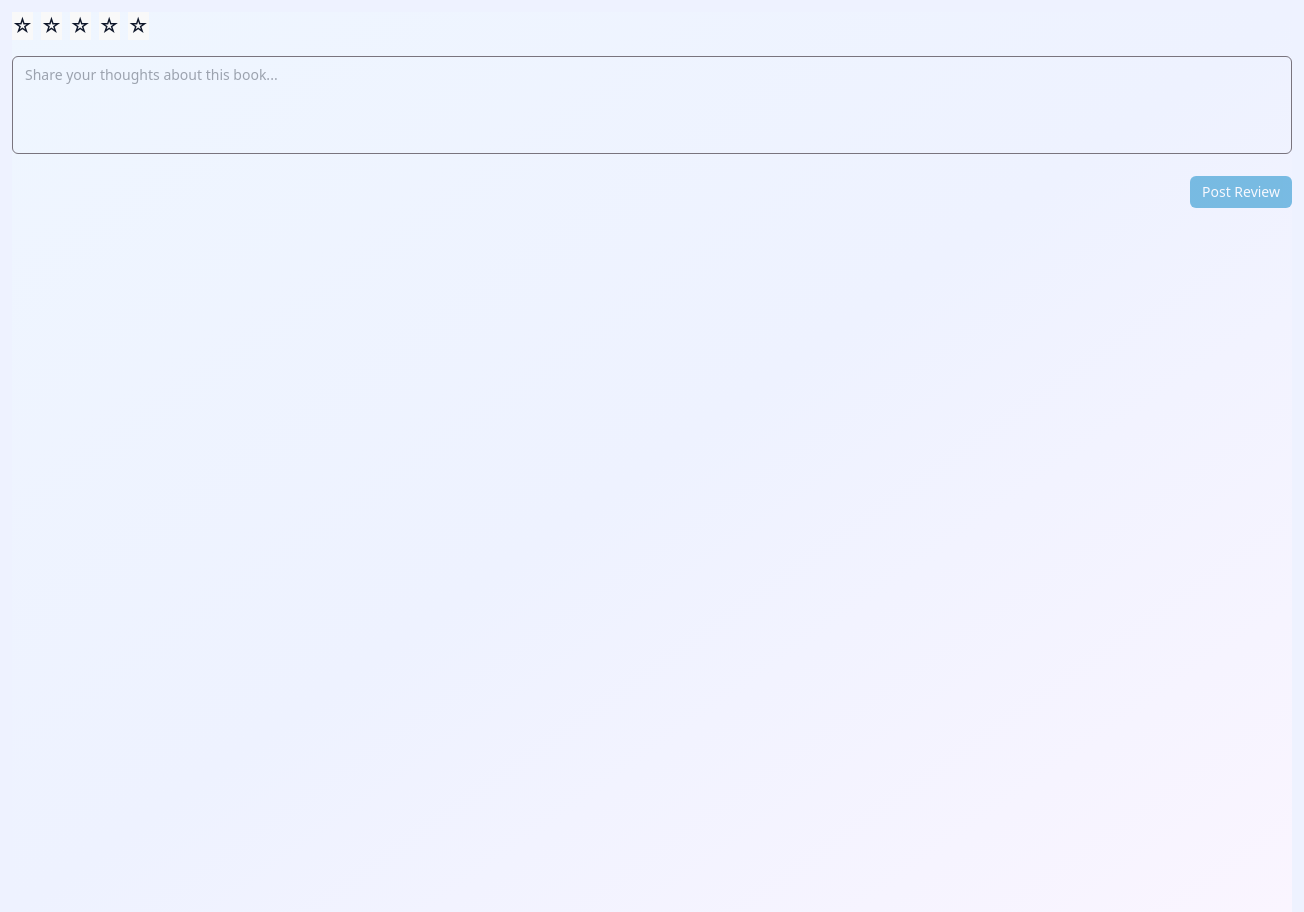
Test: ReviewForm Comprehensive Tests › resets form after successful submission
Click the button named "Rate 1 star": (22,26) [12,12,33,40]
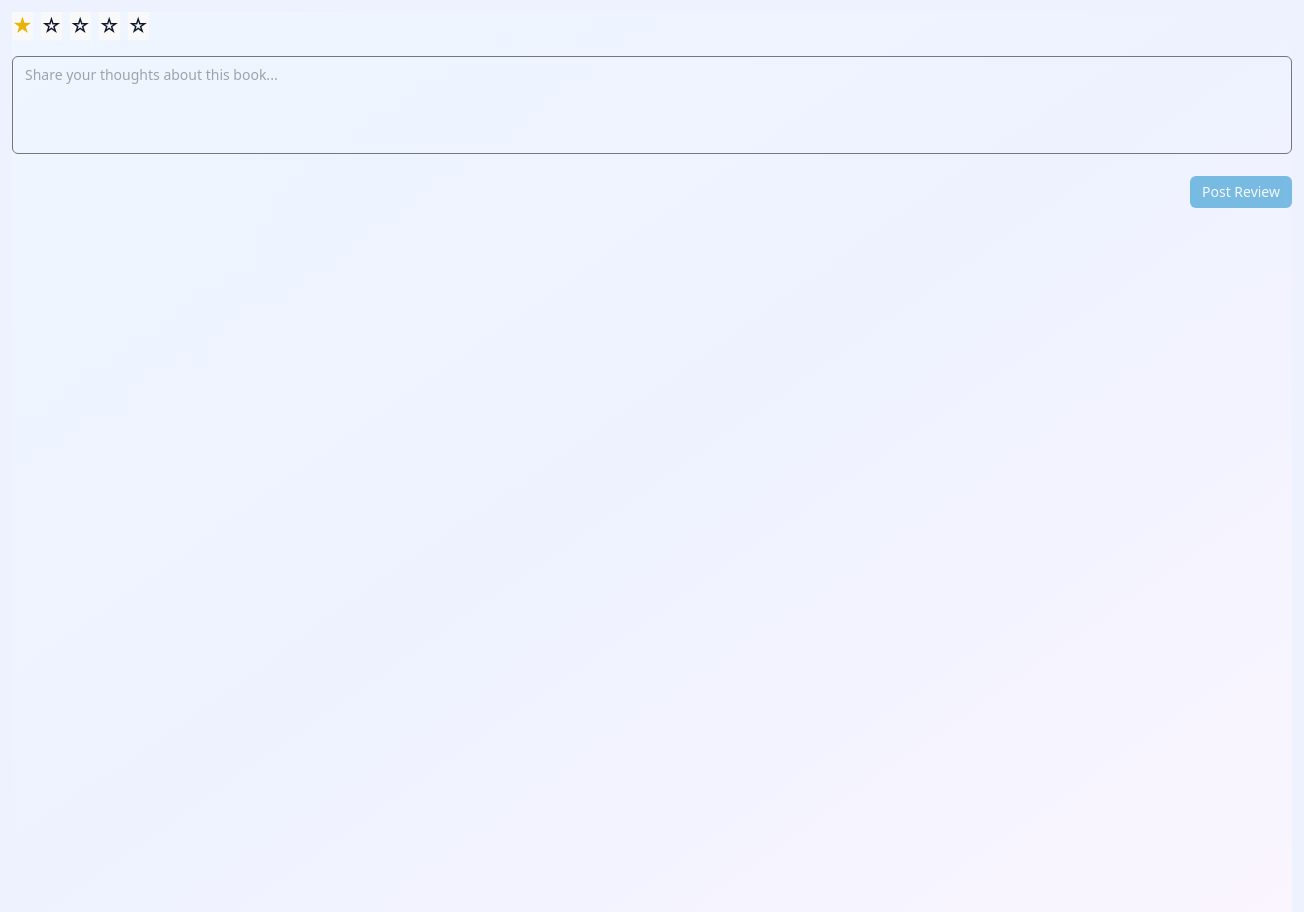
In the text box with placeholder "Share your thoughts about this book...": (652,105) [12,56,1292,154], type "Great book!"
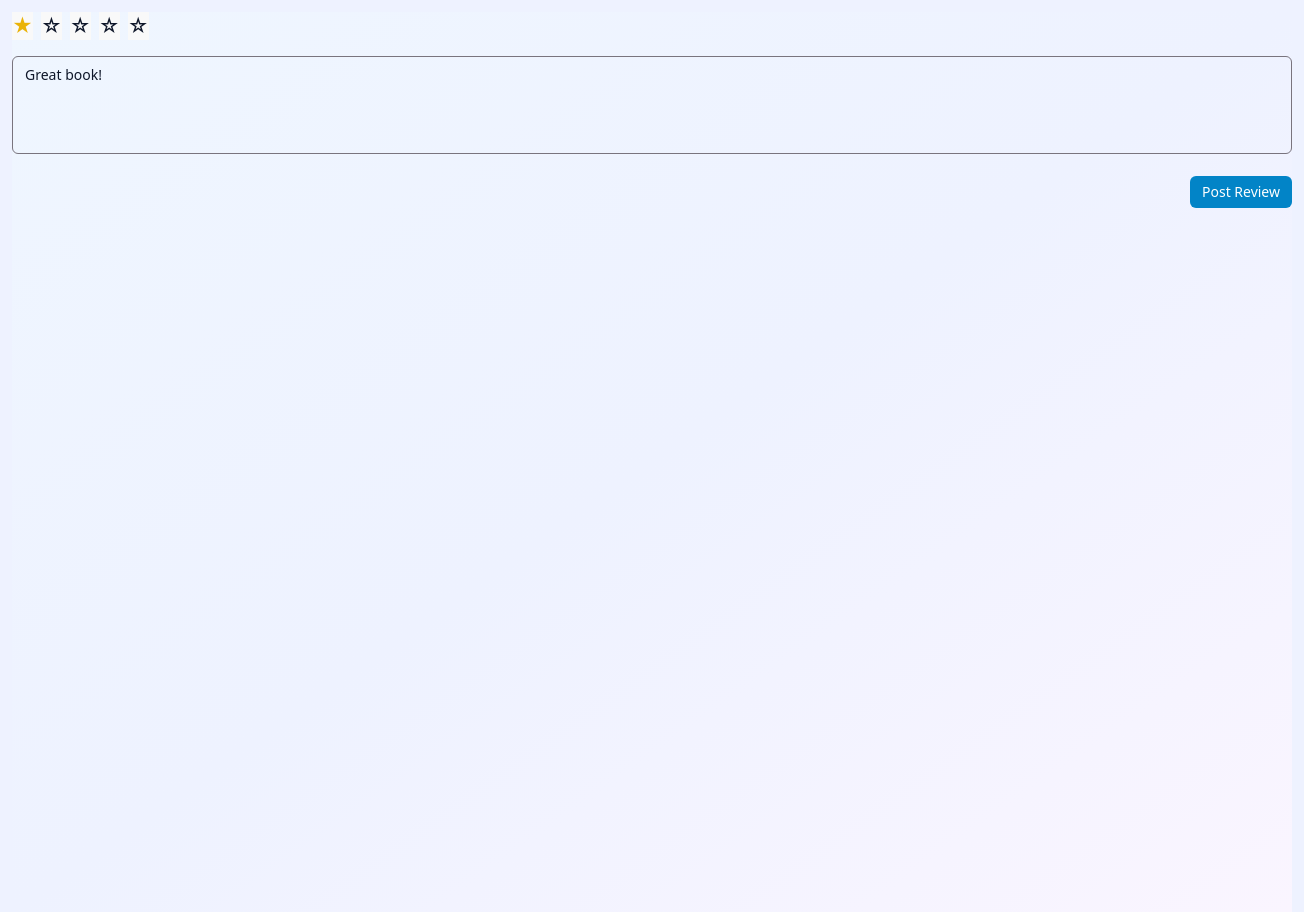
Click the button "Post Review": (1241,192) [1190,176,1292,208]
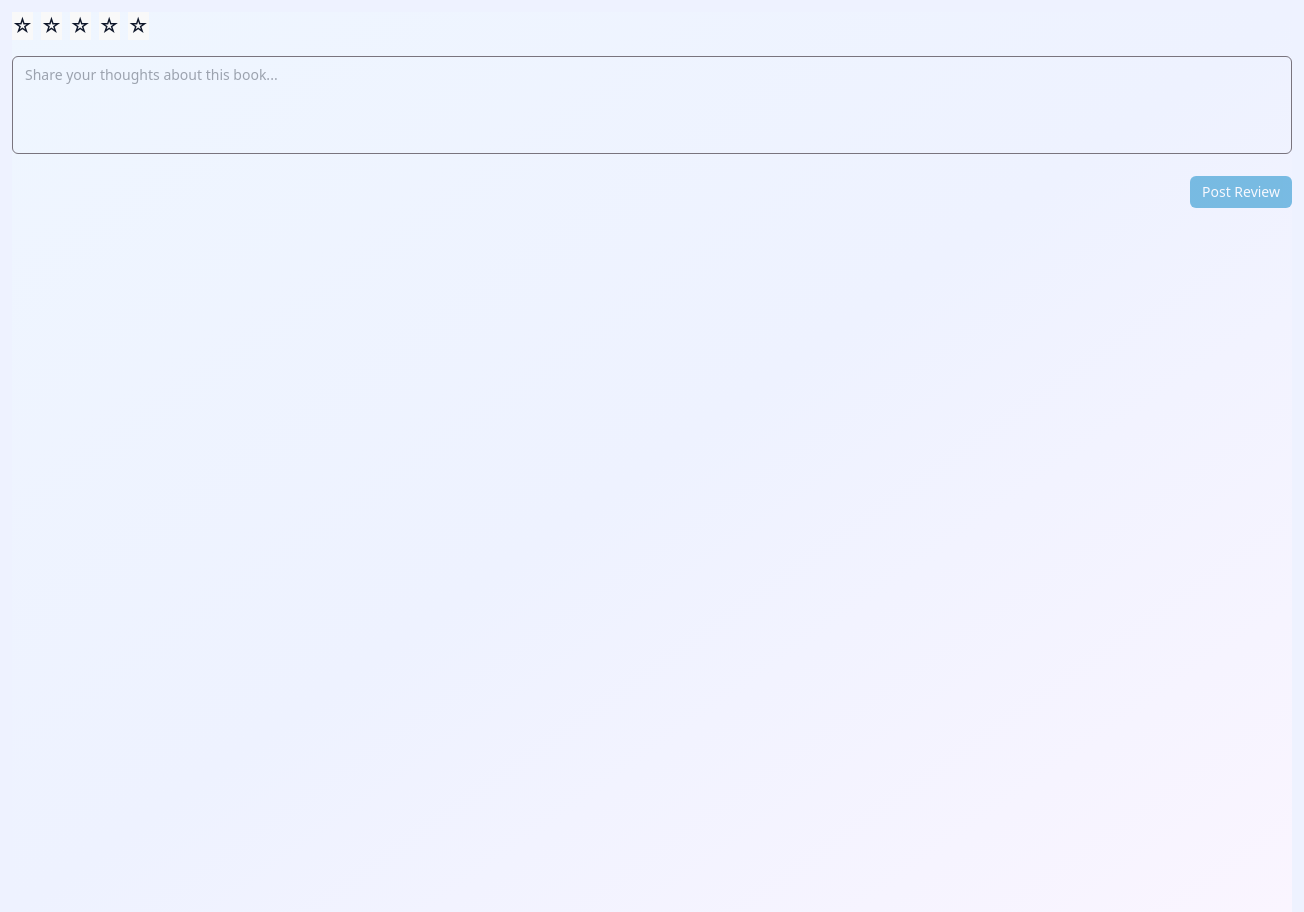
Result: the text box with placeholder "Share your thoughts about this book..." is empty at [12,56,1292,154]
Result: the button named "Rate 1 star" reads "☆" at [12,12,33,40]
